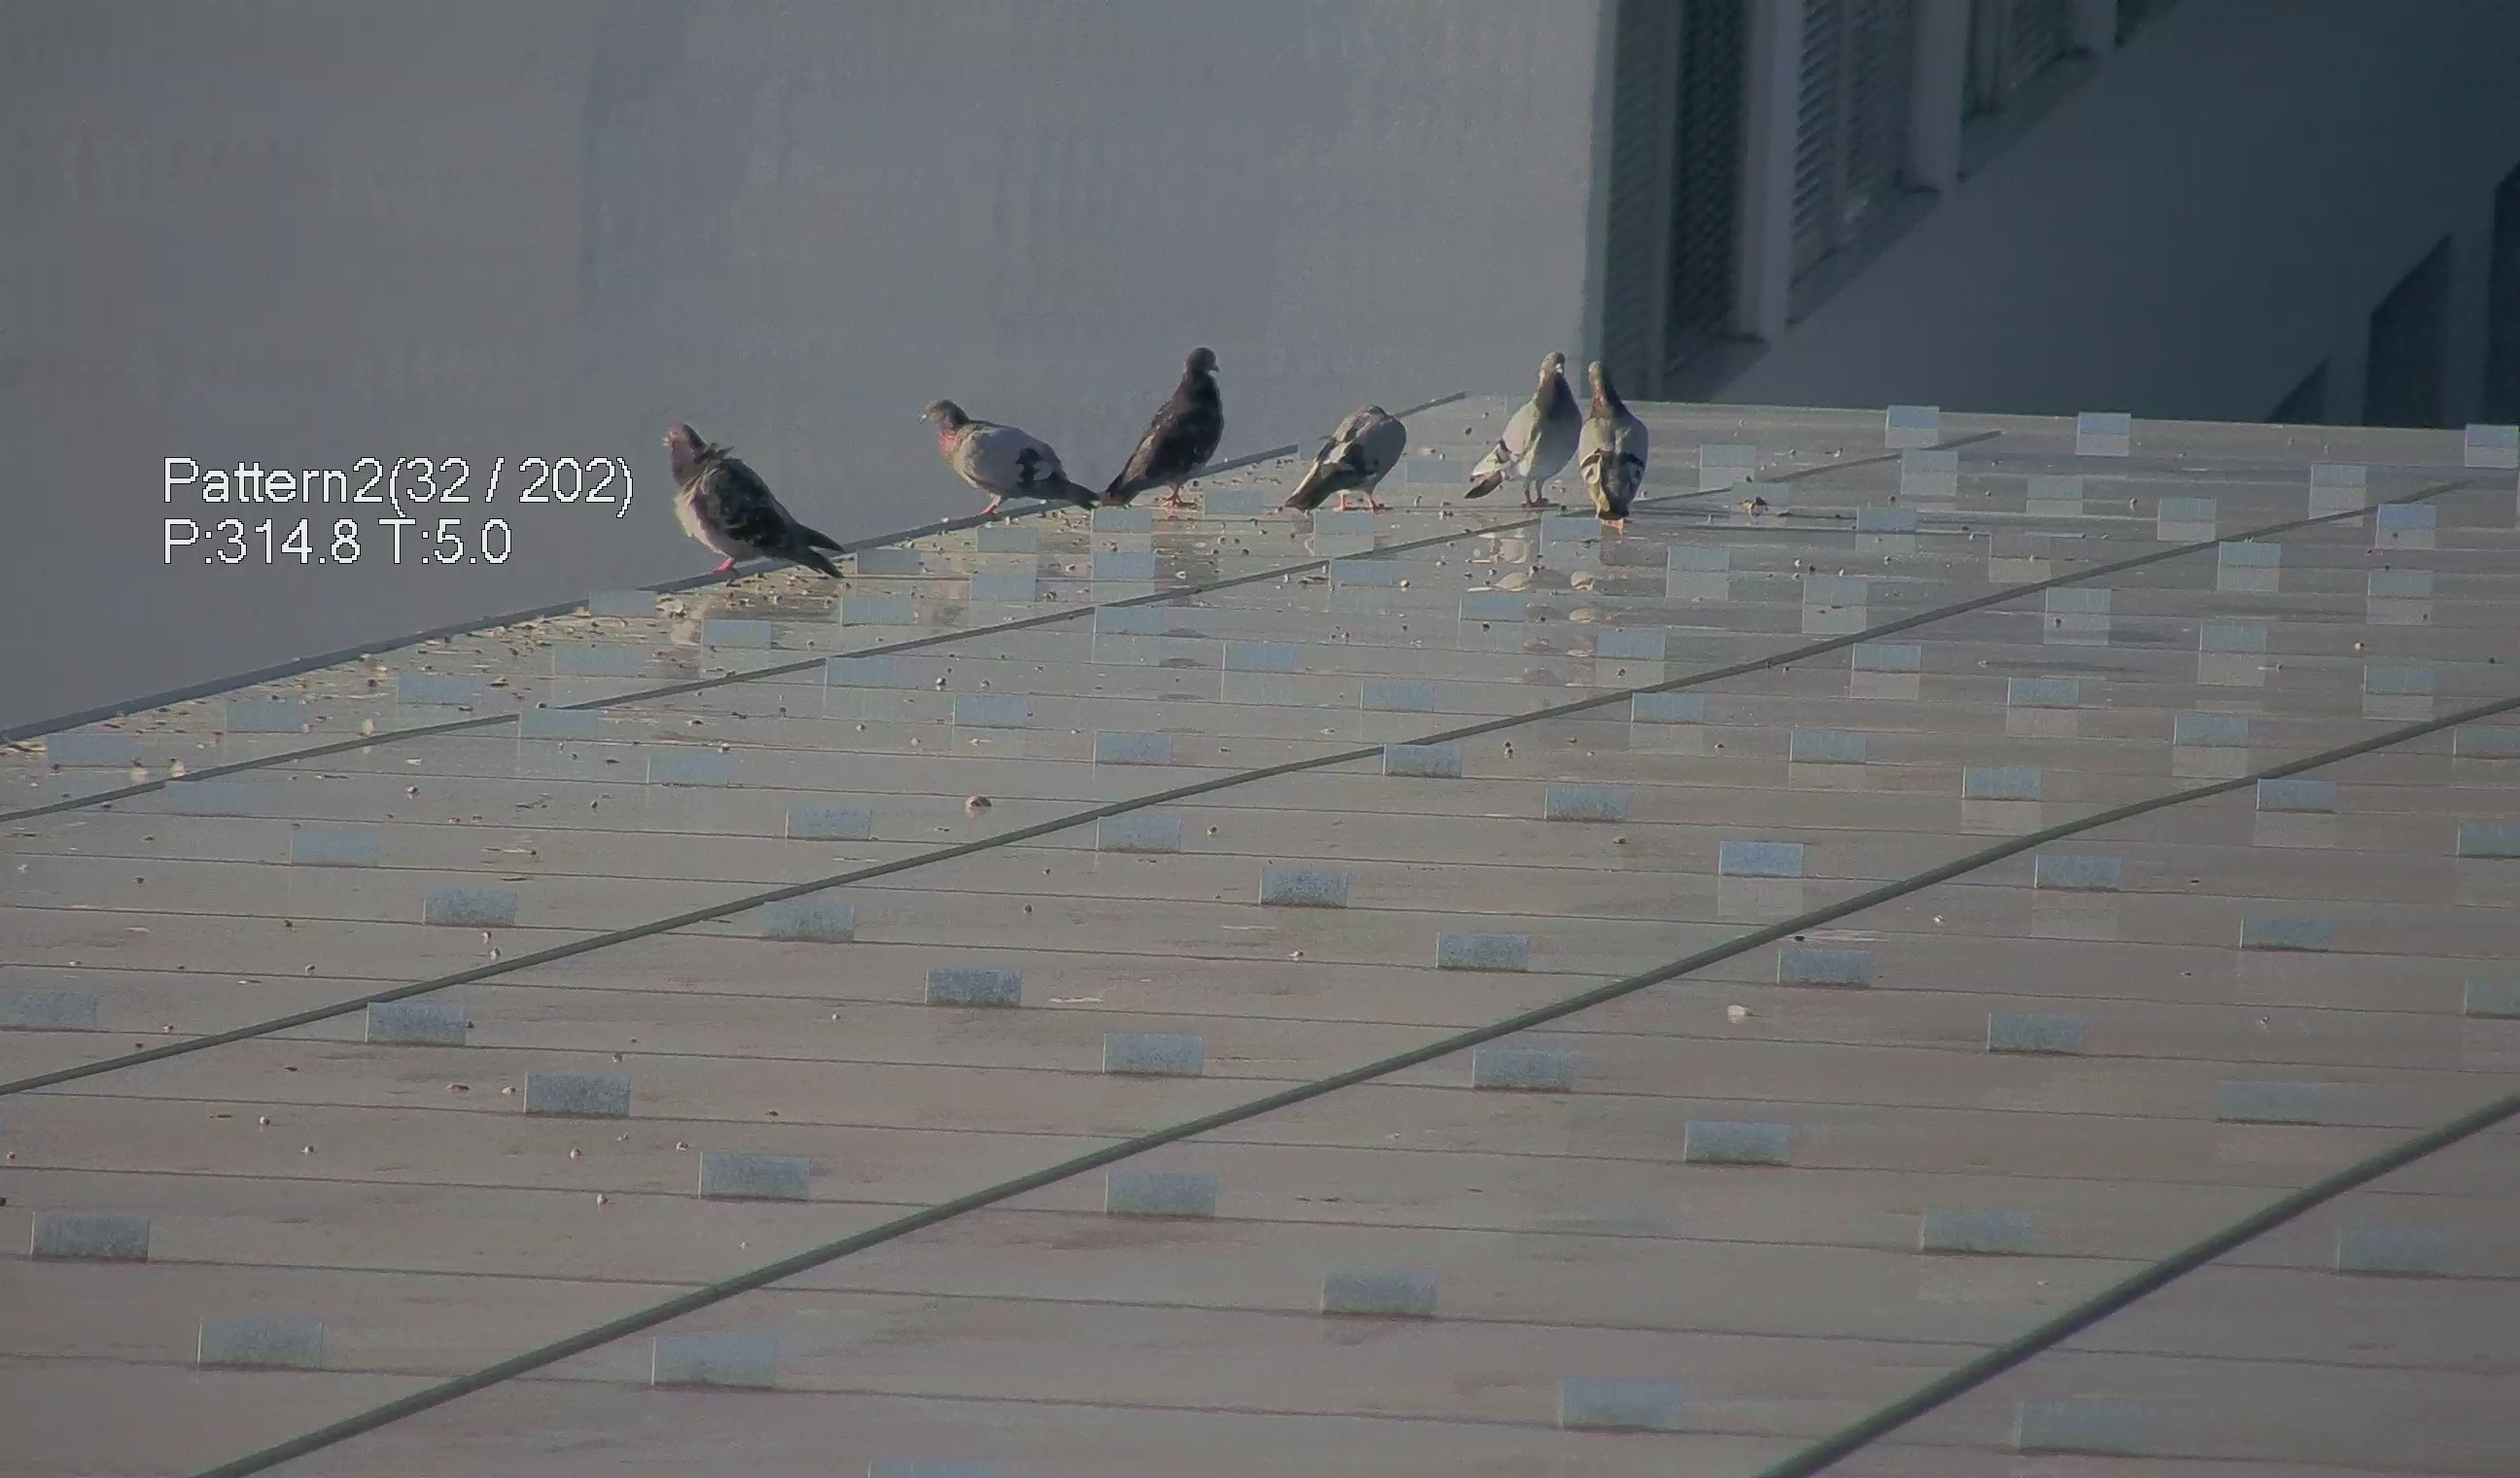Pigeon: (647, 412, 848, 593), (909, 385, 1106, 516), (1096, 334, 1235, 507), (1470, 345, 1590, 507), (1567, 341, 1662, 521), (1280, 389, 1419, 507)
